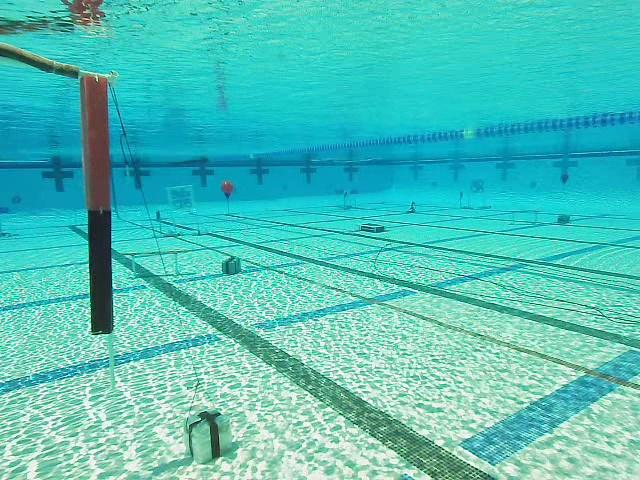buoy: (220, 181, 234, 201)
dropper: (358, 222, 385, 233)
gate_leg_r: (78, 68, 116, 335)
torpedo: (169, 187, 194, 211)
